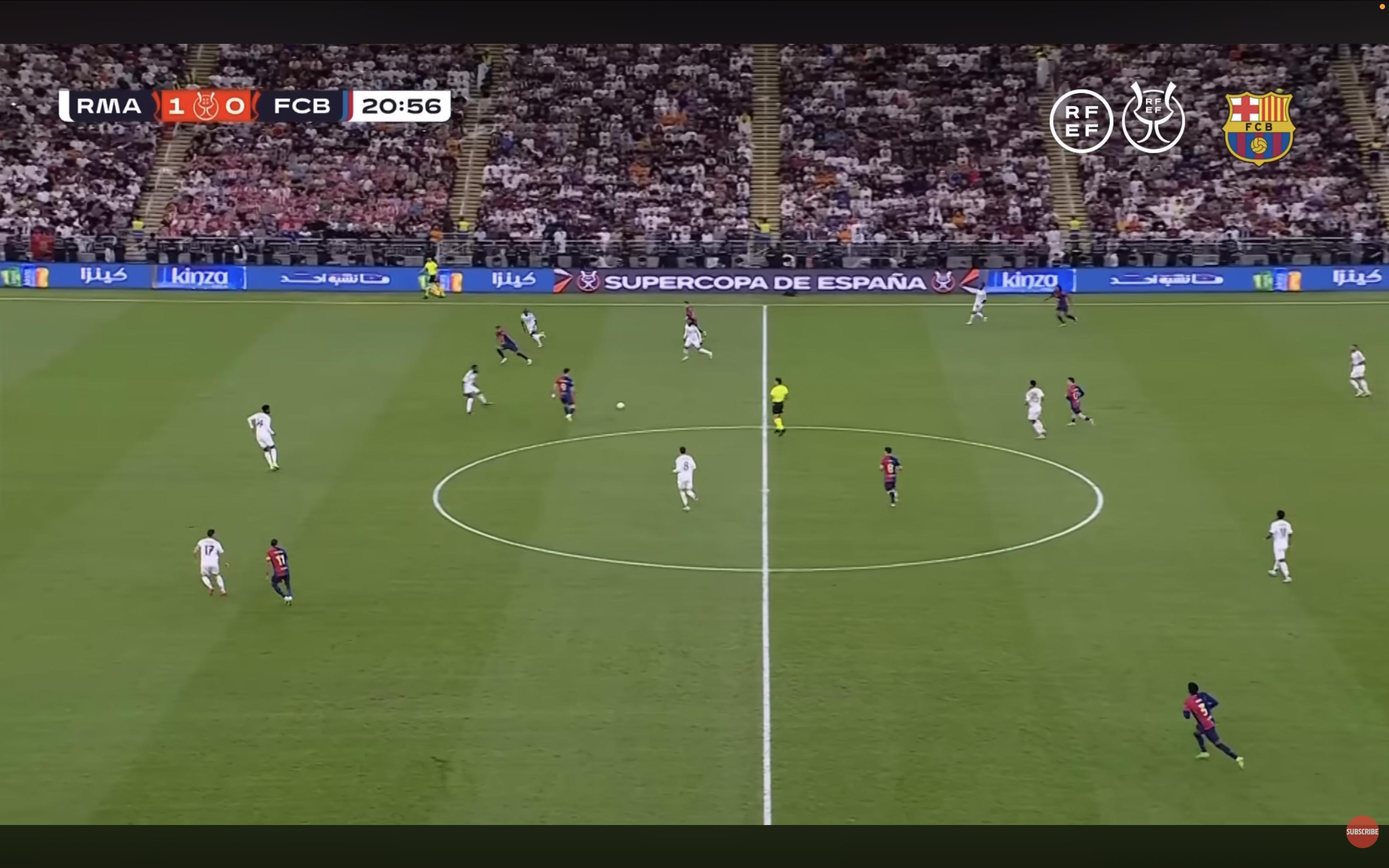ball: (616, 401, 624, 410)
player: (1183, 682, 1244, 768), (195, 529, 227, 596), (1266, 510, 1293, 583), (247, 405, 277, 470), (267, 539, 293, 604), (673, 447, 698, 511), (496, 326, 532, 365), (462, 364, 488, 414), (1024, 380, 1046, 439), (551, 368, 575, 421), (1066, 378, 1093, 425), (880, 447, 901, 506), (682, 322, 712, 360), (1350, 344, 1371, 396), (1051, 288, 1077, 326), (521, 309, 545, 347), (966, 287, 987, 324), (685, 303, 699, 327)
referee: (419, 257, 444, 300), (770, 378, 788, 435)
